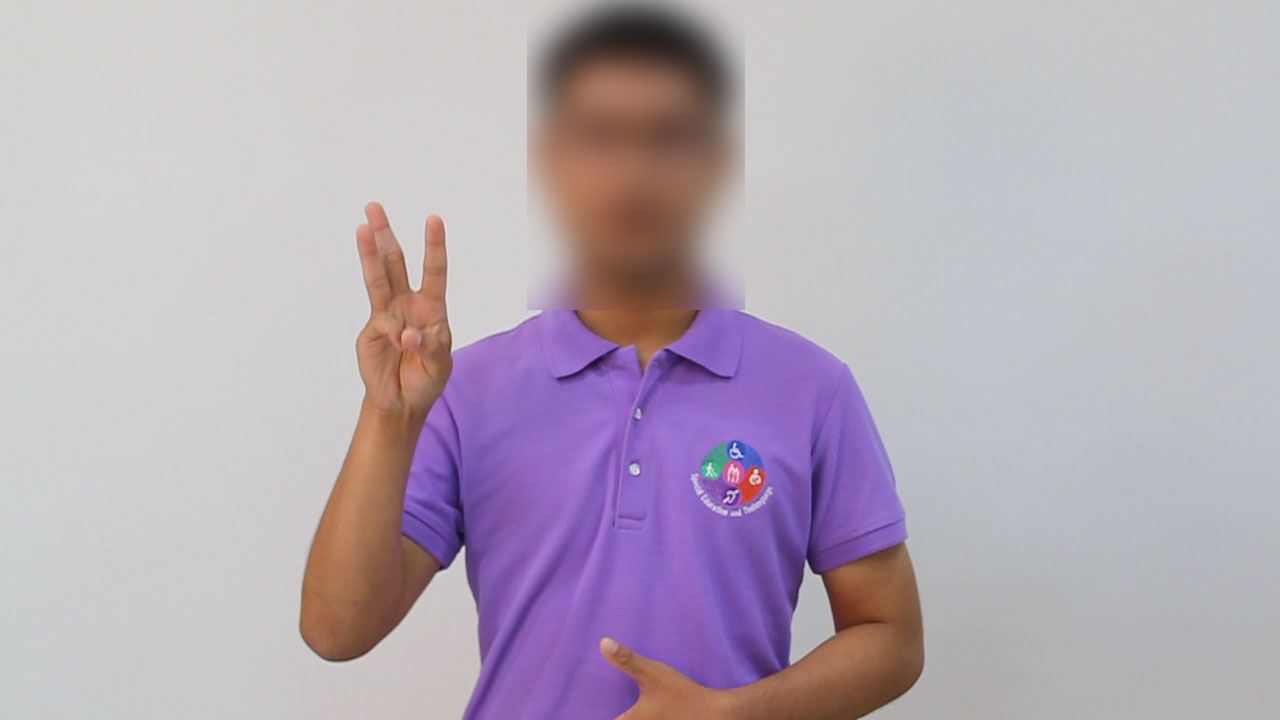wor: (345, 191, 460, 429)
